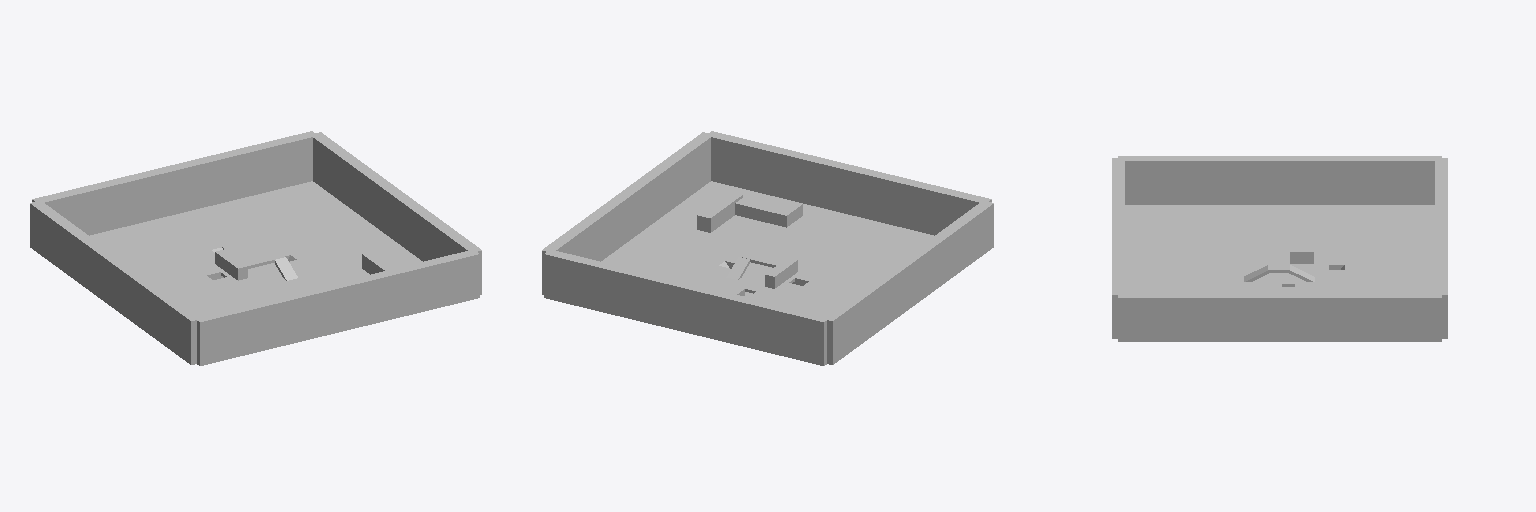
The model's file is MAP3.obj.
3 renders of one model, left to right at view 1: azimuth 30°, elevation 25°; view 2: azimuth 150°, elevation 25°; view 3: azimuth 270°, elevation 25°, orthographic.
Visible parts, largest first — view 1: GROUND_Plane.002, MAPWALL1_Cube.031, MAPWALL2_Cube.033, MAPWALL4_Cube.037, MAPWALL3_Cube.035, LEVEL12_Cube.010, BUILDING1_Cube.004; view 2: GROUND_Plane.002, MAPWALL2_Cube.033, MAPWALL1_Cube.031, MAPWALL4_Cube.037, MAPWALL3_Cube.035, HITBOX_BUILDING2_MAIN_Cube.040, BUILDING1_Cube.004, LEVEL12_Cube.010; view 3: GROUND_Plane.002, MAPWALL3_Cube.035, MAPWALL4_Cube.037, MAPWALL1_Cube.031, MAPWALL2_Cube.033, HITBOX_BUILDING2_MAIN_Cube.040.
Boxes of the visible parts, box(x1,y1,x2,y2) form: GROUND_Plane.002: box(90, 181, 422, 315); MAPWALL1_Cube.031: box(195, 251, 479, 365); MAPWALL2_Cube.033: box(32, 131, 317, 235); MAPWALL4_Cube.037: box(30, 200, 201, 364); MAPWALL3_Cube.035: box(313, 132, 481, 294); LEVEL12_Cube.010: box(215, 249, 247, 280); BUILDING1_Cube.004: box(362, 250, 398, 274); GROUND_Plane.002: box(601, 181, 933, 315); MAPWALL2_Cube.033: box(544, 251, 828, 365); MAPWALL1_Cube.031: box(706, 131, 991, 235); MAPWALL4_Cube.037: box(823, 200, 993, 364); MAPWALL3_Cube.035: box(542, 132, 712, 294); HITBOX_BUILDING2_MAIN_Cube.040: box(735, 191, 802, 226); BUILDING1_Cube.004: box(697, 192, 742, 232); LEVEL12_Cube.010: box(765, 258, 797, 288); GROUND_Plane.002: box(1125, 205, 1434, 291); MAPWALL3_Cube.035: box(1118, 292, 1441, 341); MAPWALL4_Cube.037: box(1118, 156, 1441, 204); MAPWALL1_Cube.031: box(1112, 158, 1124, 338); MAPWALL2_Cube.033: box(1435, 158, 1447, 338); HITBOX_BUILDING2_MAIN_Cube.040: box(1150, 274, 1182, 291).
Bounding box in the file's own units: 208 × 40 × 208.